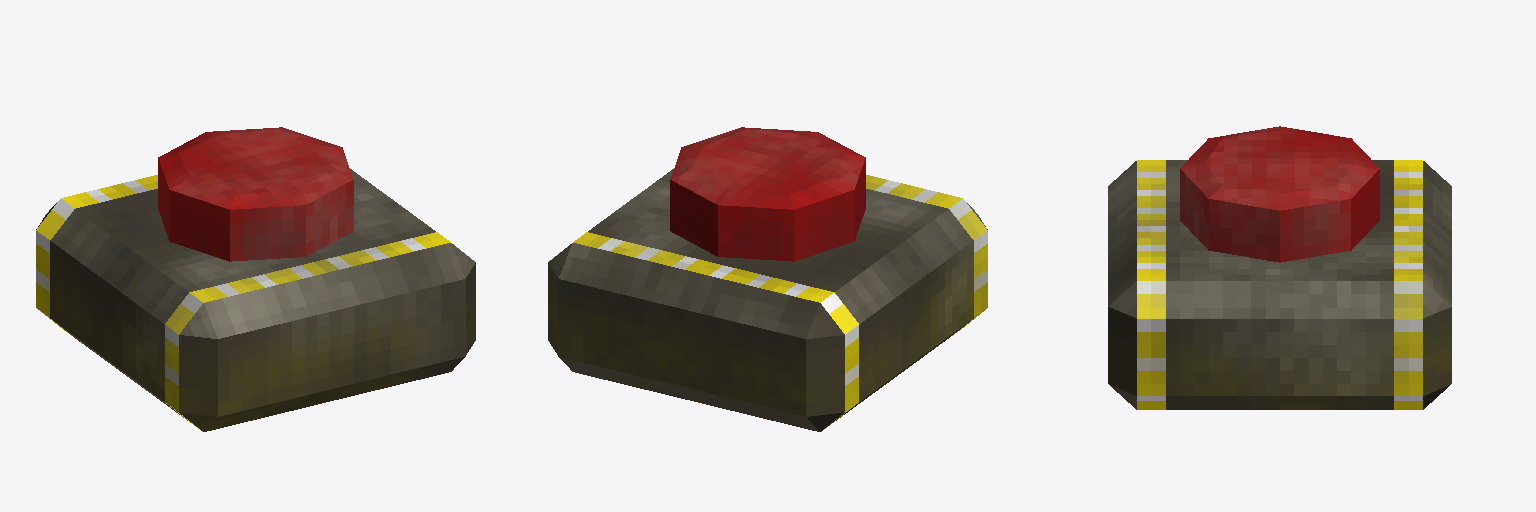
The picture shows the model from 3 angles: view 1: azimuth 30°, elevation 25°; view 2: azimuth 150°, elevation 25°; view 3: azimuth 270°, elevation 25°; orthographic projection.
Parts seen in each view (by area): view 1: beveled_cuboid; view 2: beveled_cuboid; view 3: beveled_cuboid.
Part boxes in pixels (x1,y1,x2,y2): beveled_cuboid: (36, 127, 475, 431); beveled_cuboid: (548, 127, 987, 431); beveled_cuboid: (1108, 126, 1451, 409).
Size of the model in its own units: 0.75 by 0.4531 by 0.75.
Materials: 1 (1 with a texture image).